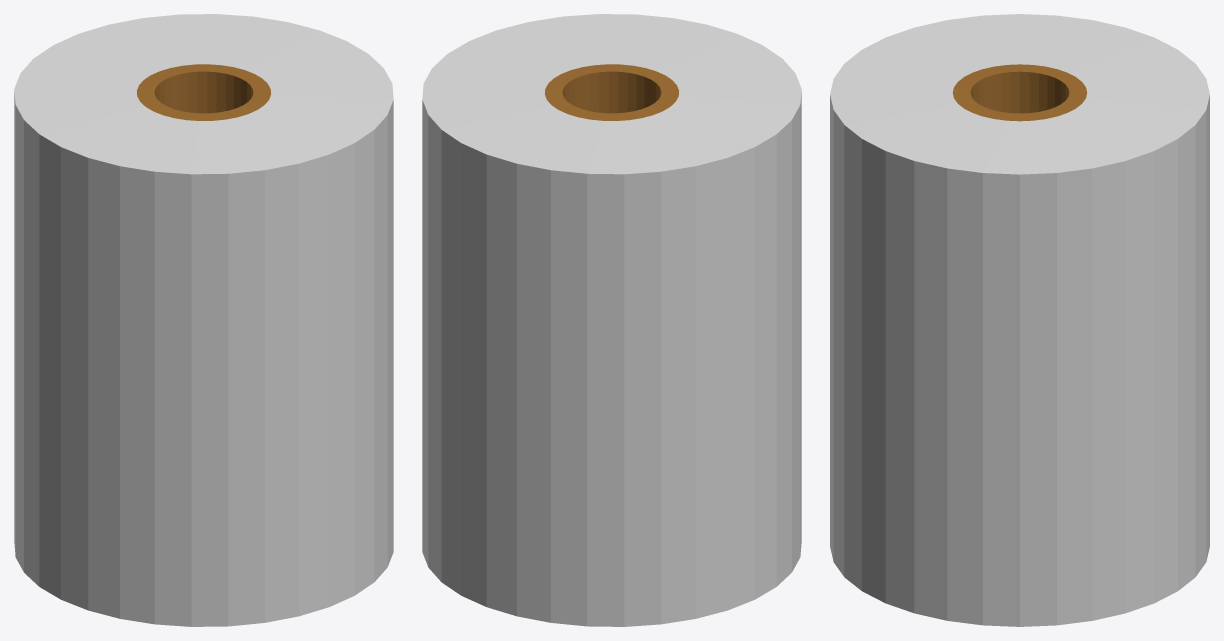
File: ToiletPaper.fbx
3 renders of one model, left to right at view 1: azimuth 30°, elevation 25°; view 2: azimuth 150°, elevation 25°; view 3: azimuth 270°, elevation 25°, orthographic.
Parts seen in each view (by area): view 1: Cylinder.003; view 2: Cylinder.003; view 3: Cylinder.003.
Part boxes in pixels (<box>): Cylinder.003: <box>14,14,393,626</box>; Cylinder.003: <box>422,14,801,626</box>; Cylinder.003: <box>830,14,1209,626</box>.
Size of the model in its own units: 72.28 by 95.33 by 72.28.
1 material, 1 textured.
